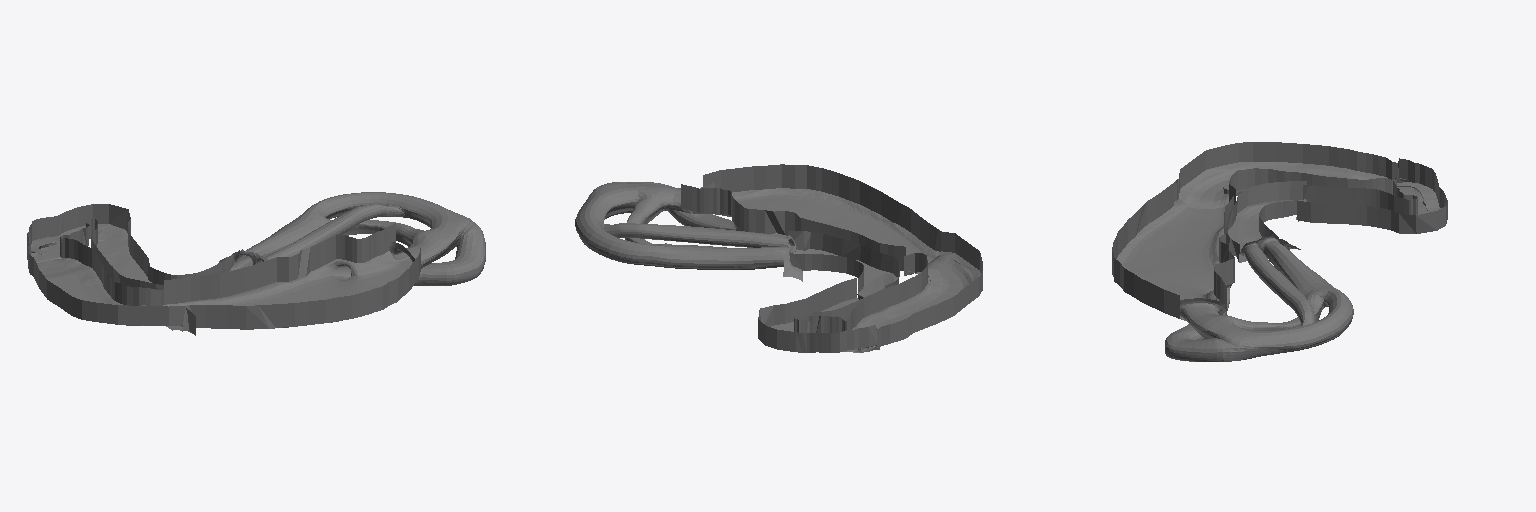
The model's file is aer_racer_circuit_collider_01.obj.
The picture shows the model from 3 angles: view 1: azimuth 30°, elevation 25°; view 2: azimuth 150°, elevation 25°; view 3: azimuth 270°, elevation 25°; orthographic projection.
Visible parts, largest first — view 1: aer_racer_circuit_collider_01; view 2: aer_racer_circuit_collider_01; view 3: aer_racer_circuit_collider_01.
Boxes of the visible parts, <box> form: aer_racer_circuit_collider_01: <box>27,192,485,335</box>; aer_racer_circuit_collider_01: <box>575,164,982,352</box>; aer_racer_circuit_collider_01: <box>1112,142,1447,361</box>.
Size of the model in its own units: 170 by 20.58 by 125.